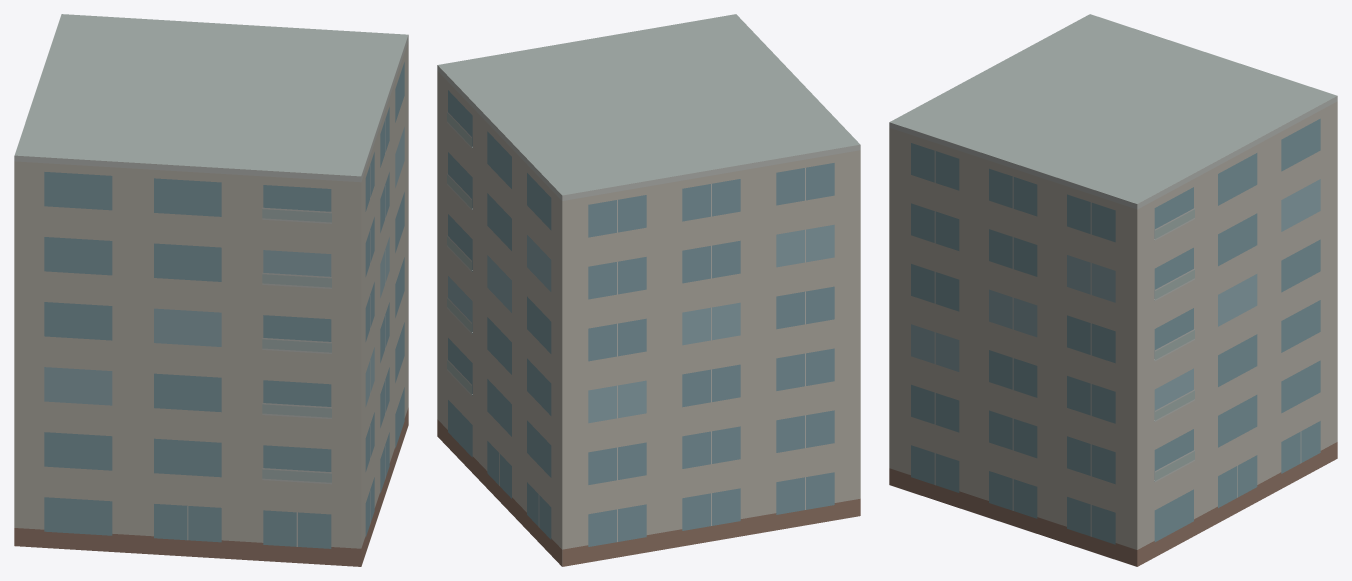
The model's file is survey-upis-33025096.glb.
3 views of the same model, side by side, from view 1: azimuth 30°, elevation 25°; view 2: azimuth 150°, elevation 25°; view 3: azimuth 270°, elevation 25° (orthographic). The views are drawn at different scales.
Visible parts, largest first — view 1: survey-upis-33025096.tmp; view 2: survey-upis-33025096.tmp; view 3: survey-upis-33025096.tmp.
Boxes of the visible parts, bbox=[...] form: survey-upis-33025096.tmp: bbox=[14, 14, 408, 566]; survey-upis-33025096.tmp: bbox=[437, 14, 860, 566]; survey-upis-33025096.tmp: bbox=[889, 14, 1337, 566].
Bounding box in the file's own units: 18.33 × 16.3 × 18.27.
